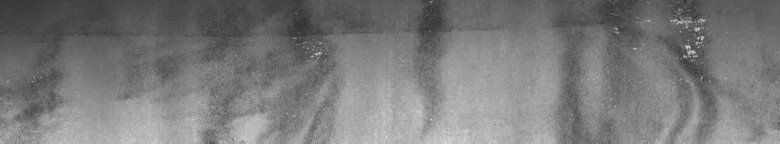hc: (612, 5, 714, 92)
